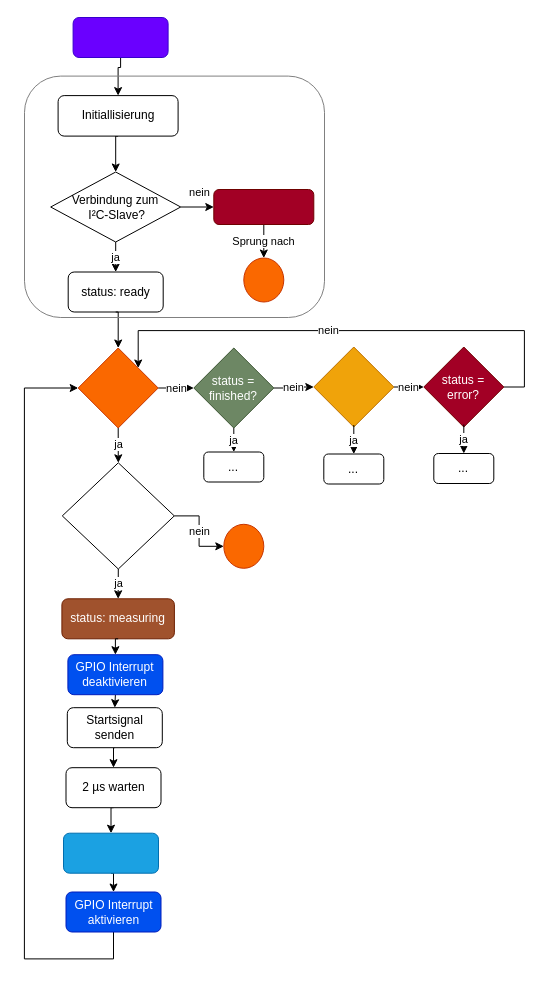
This 550x985 diagram has some shape labels left out. Each missing label, with the box of its shape:
mehr als 2s seit letzter Messung vergangen?: (61, 462, 174, 569)
START: (72, 16, 168, 58)
StartUp: (24, 75, 324, 318)
status = invalid?: (313, 346, 394, 427)
status = ready?: (77, 347, 158, 428)
status: error 1: (213, 188, 314, 224)
Timer starten: (62, 832, 158, 873)
